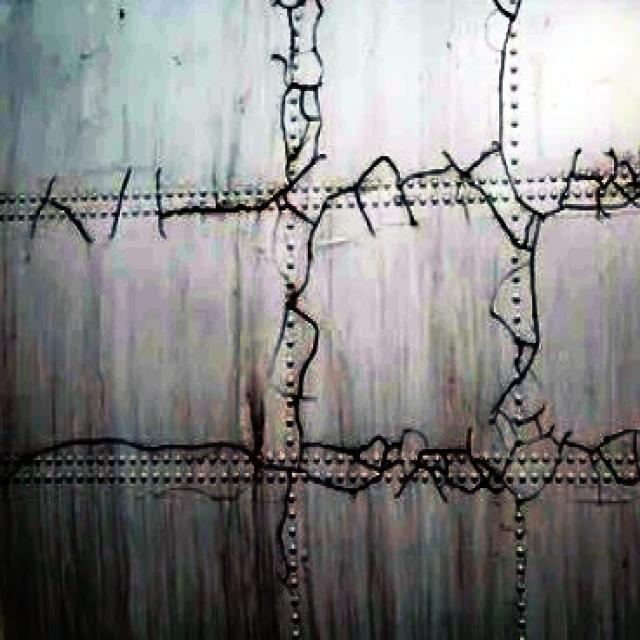crack: (15, 147, 640, 247), (8, 427, 640, 505), (262, 3, 334, 600), (483, 3, 542, 494)
